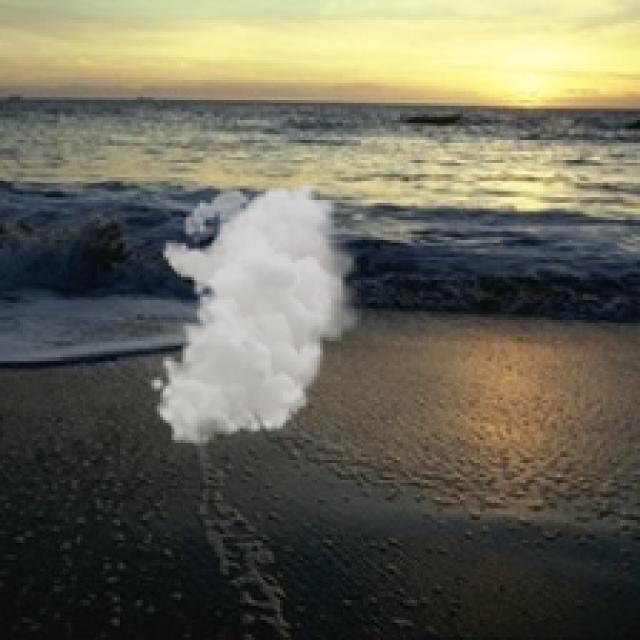smoke: (148, 180, 366, 446)
